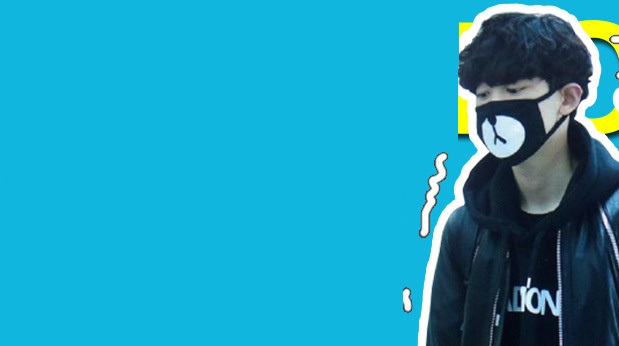face_mask: (476, 63, 554, 166)
